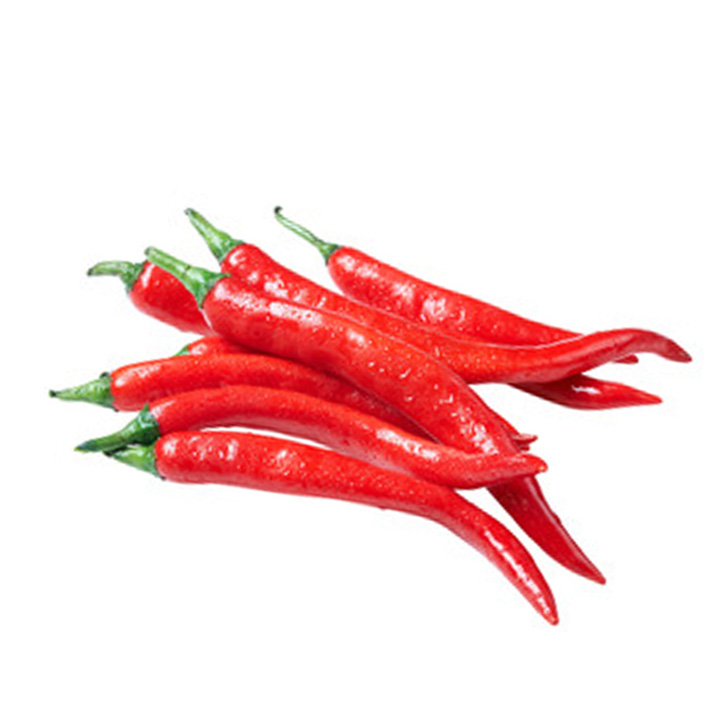Cabai: (48, 132, 675, 661)
